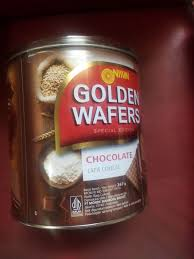metal: (6, 34, 148, 231)
